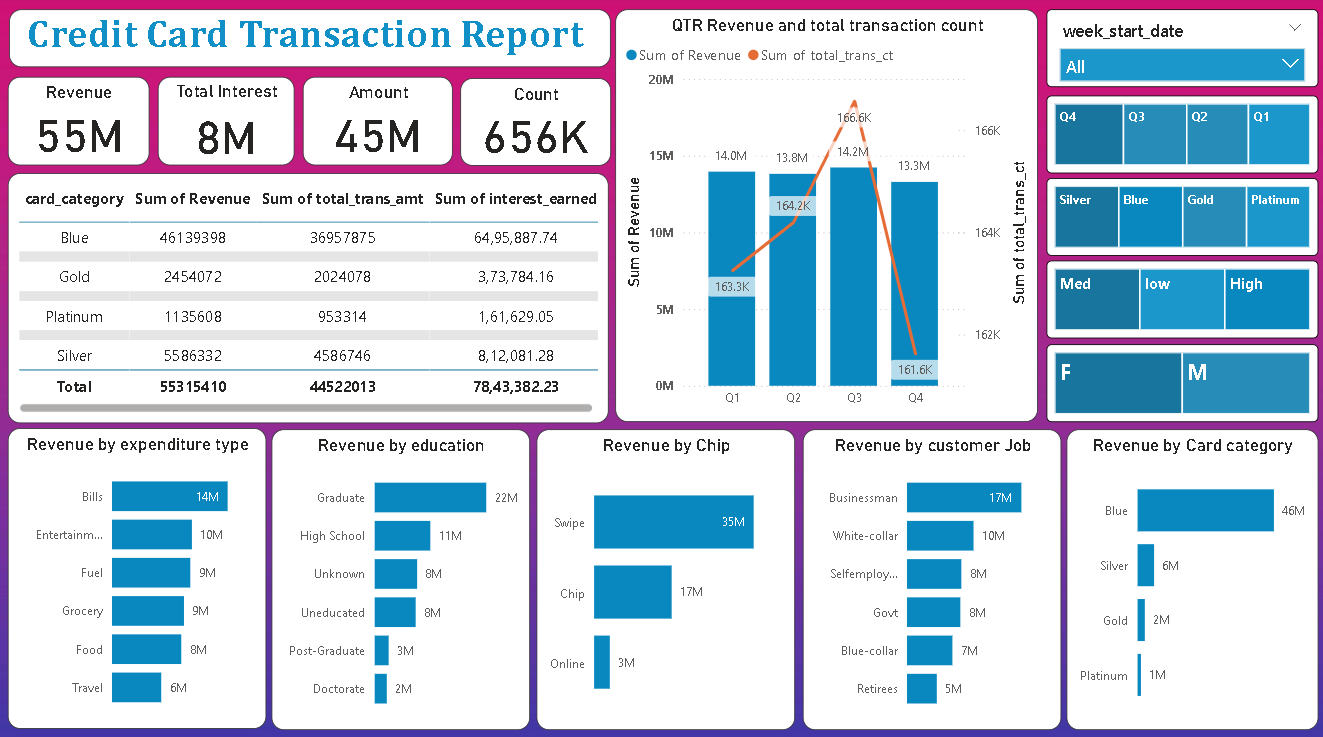

The dashboard page shown, as its layout file describes it:
{"tool":"powerbi","page":{"name":"CC Transaction","canvas":[1280,720],"ordinal":0},"visuals":[{"type":"textbox","box":[9.6,11,580.4,56.3],"z":0},{"type":"lineStackedColumnComboChart","title":"QTR Revenue and total transaction count","fields":{"Category":["public cc_detail.qtr"],"Y":["Sum(public cc_detail.Revenue)"],"Y2":["Sum(public cc_detail.total_trans_ct)"]},"box":[595.1,10.9,408.1,398.6],"z":1000},{"type":"barChart","title":"Revenue by expenditure type","fields":{"Category":["public cc_detail.exp_type"],"Y":["Sum(public cc_detail.Revenue)"]},"box":[8.2,414.9,249.8,290.7],"z":2000},{"type":"barChart","title":"Revenue by education","fields":{"Category":["public cust_detail.education_level"],"Y":["Sum(public cc_detail.Revenue)"]},"box":[263.4,416.3,249.8,290.7],"z":3000},{"type":"barChart","title":"Revenue by customer Job","fields":{"Category":["public cust_detail.customer_job"],"Y":["Sum(public cc_detail.Revenue)"]},"box":[775.3,416.3,249.8,290.7],"z":4000},{"type":"barChart","title":"Revenue by Card category ","fields":{"Category":["public cc_detail.card_category"],"Y":["Sum(public cc_detail.Revenue)"]},"box":[1030.5,416.3,243,290.7],"z":5000},{"type":"barChart","title":"Revenue by Chip","fields":{"Category":["public cc_detail.use_chip"],"Y":["Sum(public cc_detail.Revenue)"]},"box":[518.7,416.3,249.8,290.7],"z":6000},{"type":"tableEx","fields":{"Values":["public cc_detail.card_category","Sum(public cc_detail.Revenue)","Sum(public cc_detail.total_trans_amt)","Sum(public cc_detail.interest_earned)"]},"box":[8.2,169.2,580.1,241.6],"z":7000},{"type":"card","title":"Revenue","fields":{"Values":["Sum(public cc_detail.Revenue)"]},"box":[8.2,76.4,136.5,86],"z":8000},{"type":"card","title":"Amount","fields":{"Values":["Sum(public cc_detail.total_trans_amt)"]},"box":[293.5,76.4,144.7,86],"z":9000},{"type":"card","title":"Total Interest","fields":{"Values":["Sum(public cc_detail.interest_earned)"]},"box":[152.9,76.4,132.4,86],"z":10000},{"type":"card","title":"Count","fields":{"Values":["Sum(public cc_detail.total_trans_ct)"]},"box":[444.6,76.8,145.5,85.1],"z":11000},{"type":"slicer","fields":{"Values":["public cc_detail.week_start_date"]},"box":[1011.4,10.9,262.1,75.1],"z":12000},{"type":"treemap","fields":{"Group":["public cc_detail.qtr"],"Values":["Avg(public cc_detail.client_num)"]},"box":[1011.4,94.2,262.1,75.1],"z":13000},{"type":"treemap","fields":{"Group":["public cust_detail.gender"],"Values":["Avg(public cc_detail.client_num)"]},"box":[1011.4,334.4,262.1,75.1],"z":14000},{"type":"treemap","fields":{"Group":["public cc_detail.card_category"],"Values":["Avg(public cc_detail.client_num)"]},"box":[1011.4,173.3,262.1,75.1],"z":15000},{"type":"treemap","fields":{"Group":["public cust_detail.IncomeGroup"],"Values":["Avg(public cc_detail.client_num)"]},"box":[1011.4,253.9,262.1,75.1],"z":16000}]}

Visuals, with their boxes in screenshot pixels (x1, y1, x2, y2), scaled from the page's 1280x720 canvas onto the 1323x737 screenshot:
textbox: 10,11,610,69
"QTR Revenue and total transaction count" lineStackedColumnComboChart: 615,11,1037,419
"Revenue by expenditure type" barChart: 8,425,267,722
"Revenue by education" barChart: 272,426,530,724
"Revenue by customer Job" barChart: 801,426,1060,724
"Revenue by Card category " barChart: 1065,426,1316,724
"Revenue by Chip" barChart: 536,426,794,724
tableEx - public cc_detail.card_category x Sum(public cc_detail.Revenue): 8,173,608,420
"Revenue" card: 8,78,150,166
"Amount" card: 303,78,453,166
"Total Interest" card: 158,78,295,166
"Count" card: 460,79,610,166
slicer - public cc_detail.week_start_date: 1045,11,1316,88
treemap - public cc_detail.qtr x Avg(public cc_detail.client_num): 1045,96,1316,173
treemap - public cust_detail.gender x Avg(public cc_detail.client_num): 1045,342,1316,419
treemap - public cc_detail.card_category x Avg(public cc_detail.client_num): 1045,177,1316,254
treemap - public cust_detail.IncomeGroup x Avg(public cc_detail.client_num): 1045,260,1316,337
